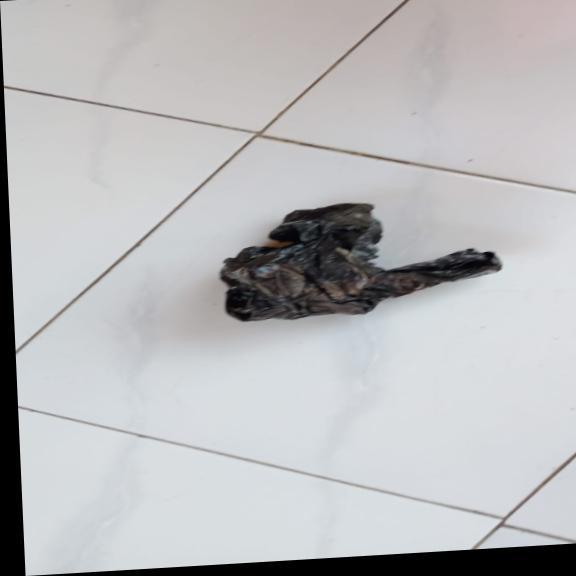Plastik: (215, 192, 504, 324)
